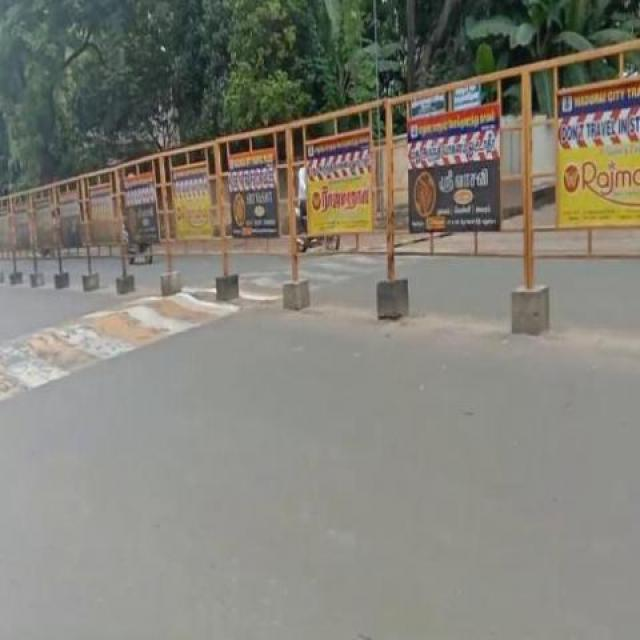Speed Bump: (0, 292, 219, 419), (309, 252, 376, 292), (237, 267, 283, 302)
